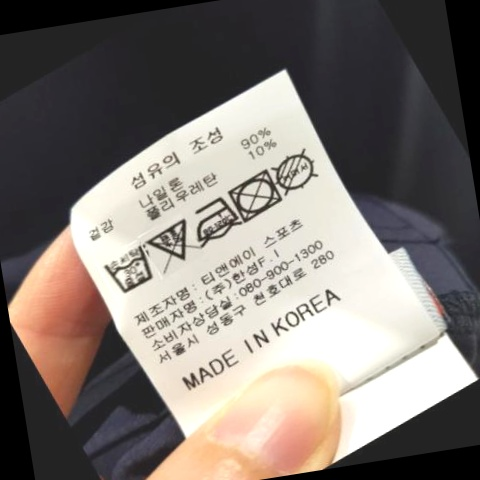DN_tumble_dry: (229, 166, 284, 227)
dry_flat_in_shade: (269, 141, 327, 203)
hand_wash: (102, 240, 158, 297)
iron_low: (190, 188, 244, 247)
non_chlorine_bleach: (148, 217, 199, 278)
